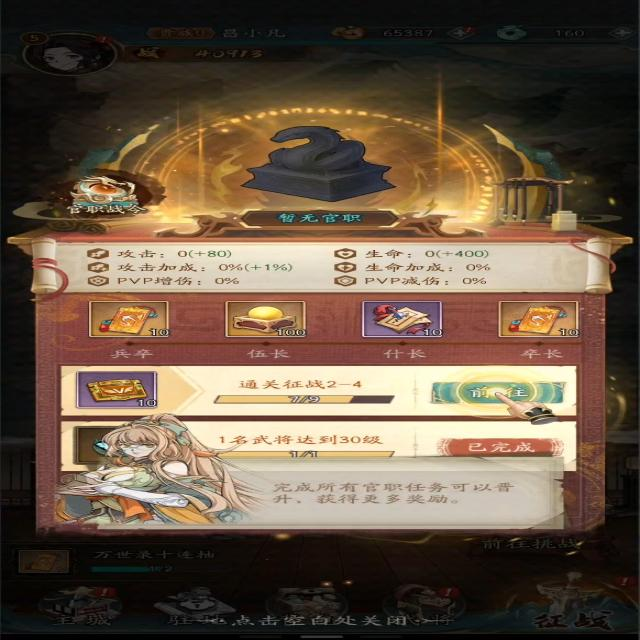hint-guide: (440, 364, 561, 426)
operation-confirm: (422, 379, 571, 405)
